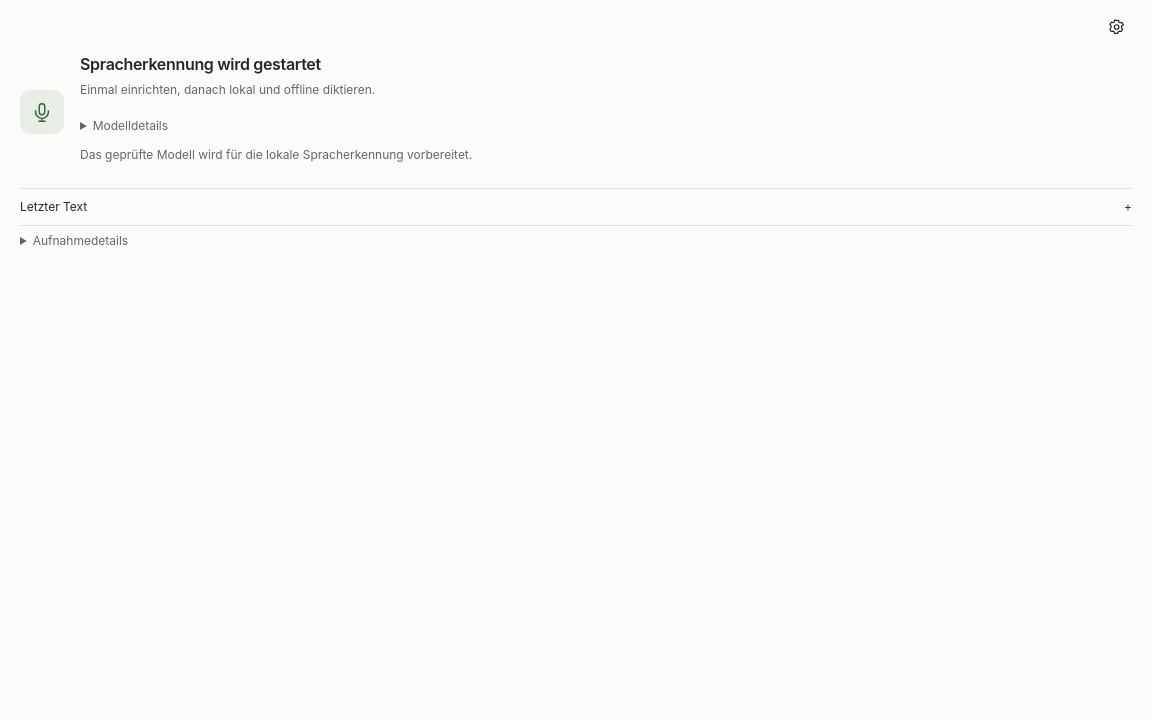
Test: settings navigation stays available while the model is loading
What coordinates should you click on to do the following:
click the button named "Einstellungen"
I would click on:
 (1117, 27)
Its box is [1102,12,1132,42].
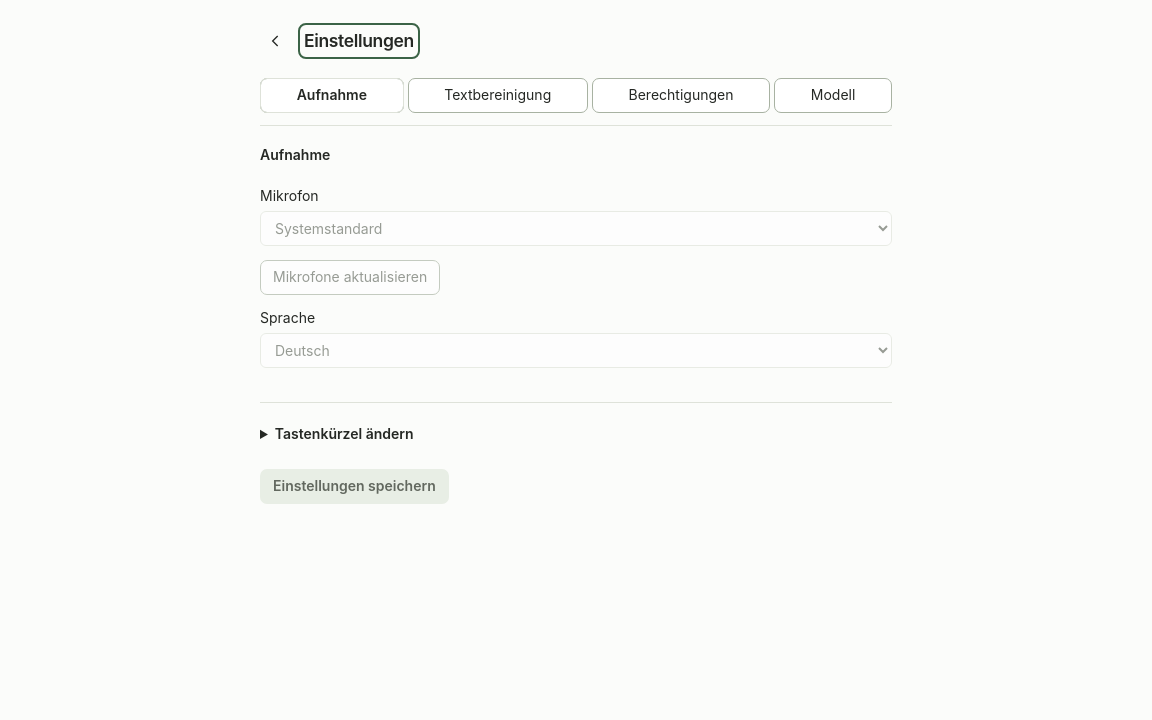
Now the element "Einstellungen" is shown, box [236,0,916,719]
